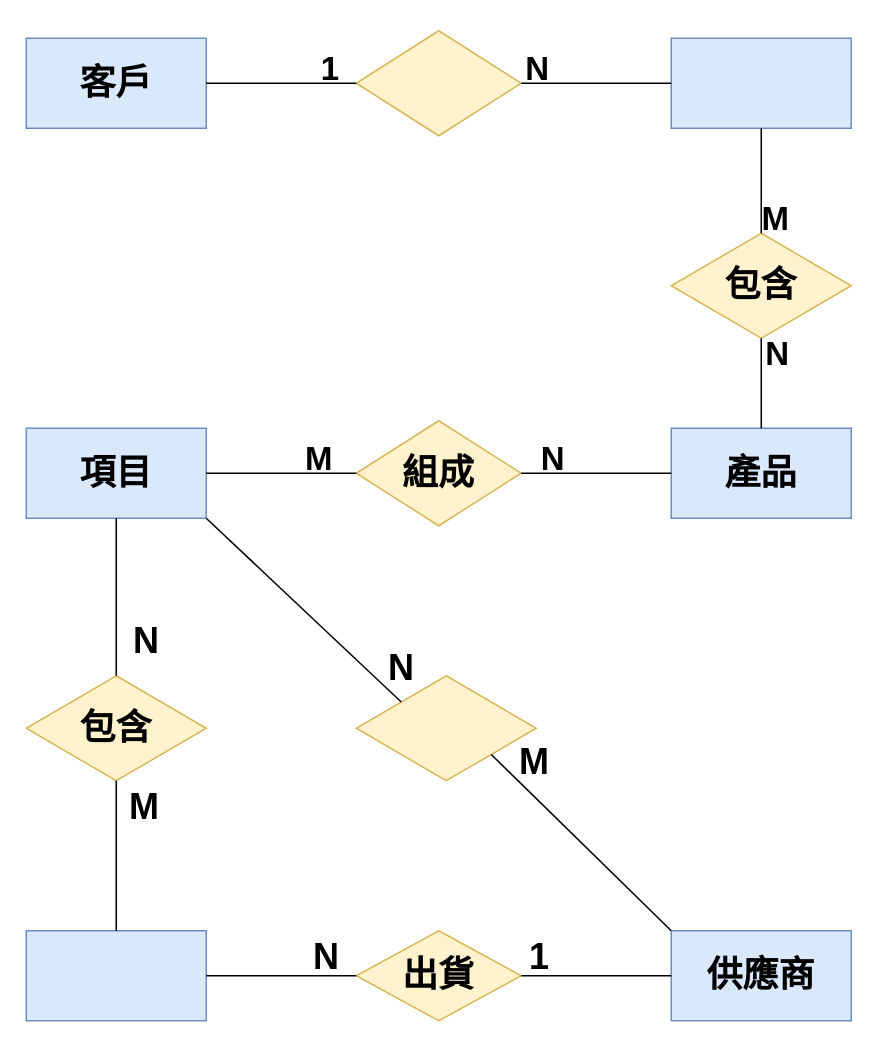
The diagram is 878 pixels wide and 1047 high, and some of its shapes have lost their labels. Each missing label, with the centre of its shape:
供應: point (445, 727)
出貨單: point (115, 975)
訂單: point (760, 82)
訂購: point (438, 82)
